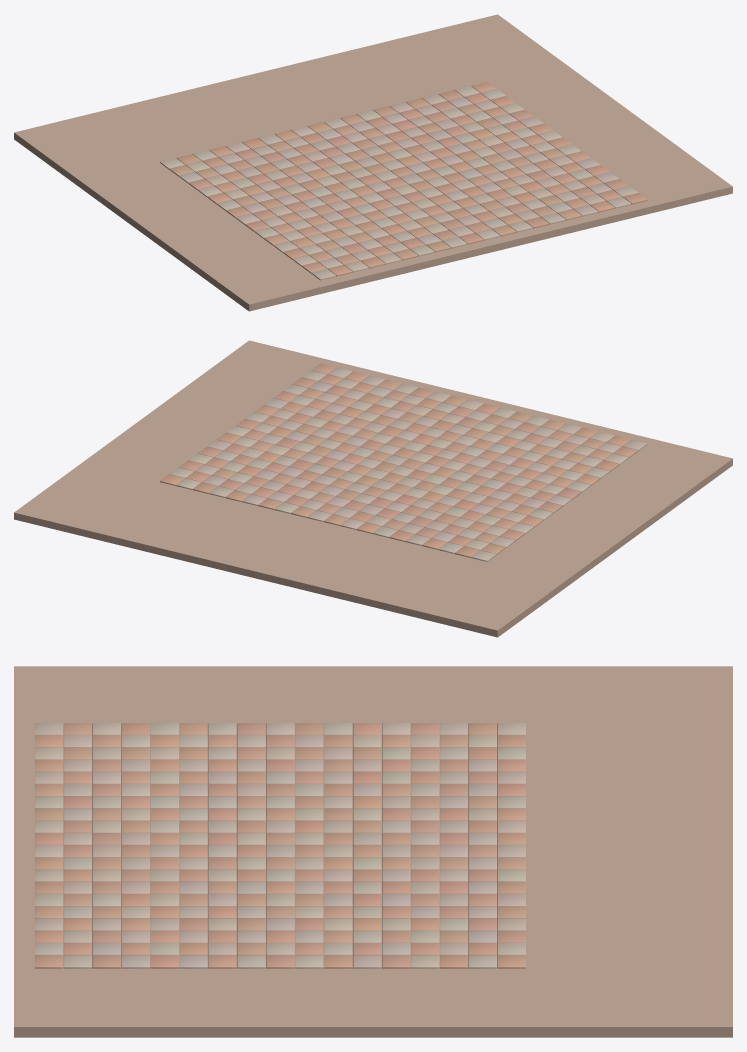
Rendered from W5_Floor.fbx.
3 views of the same model, one above another, from view 1: azimuth 30°, elevation 25°; view 2: azimuth 150°, elevation 25°; view 3: azimuth 270°, elevation 25° (orthographic). The views are drawn at different scales.
Parts seen in each view (by area): view 1: W5_Floor; view 2: W5_Floor; view 3: W5_Floor.
Part boxes in pixels (<box>): W5_Floor: <box>14,14,732,311</box>; W5_Floor: <box>14,340,732,637</box>; W5_Floor: <box>14,666,732,1037</box>.
Size of the model in its own units: 12.4 by 0.2 by 10.44.
